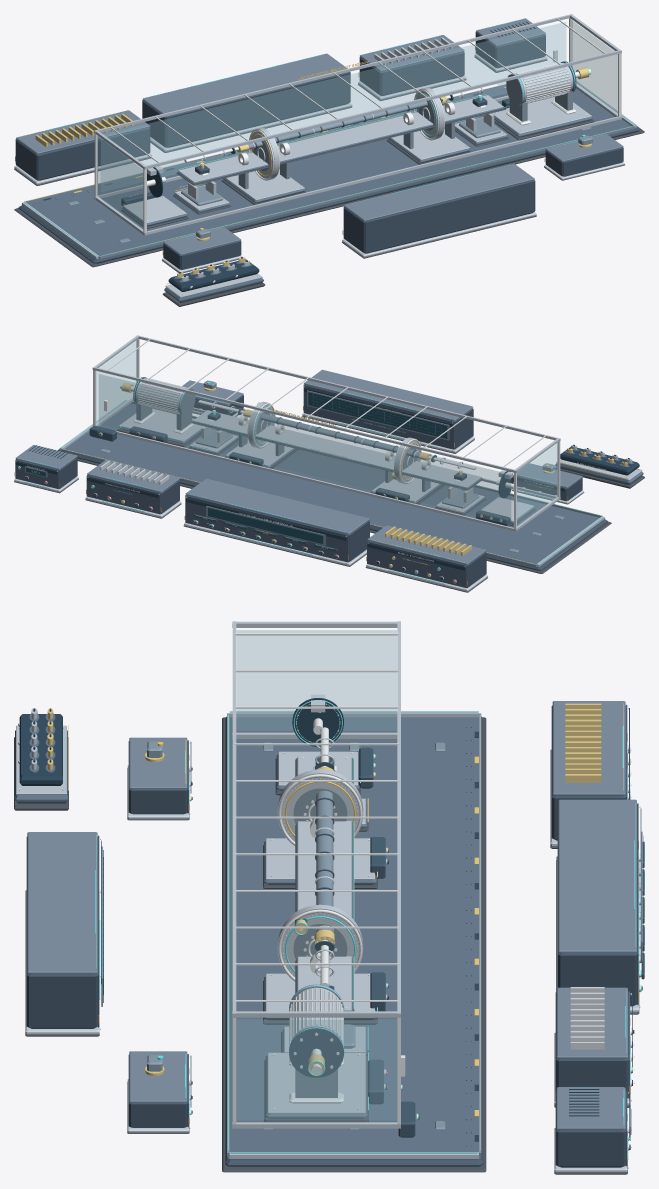
Rendered from Level53_Fitted_Assembly.fbx.
3 views of the same model, one above another, from view 1: azimuth 30°, elevation 25°; view 2: azimuth 150°, elevation 25°; view 3: azimuth 270°, elevation 25° (orthographic). The views are drawn at different scales.
Parts seen in each view (by area): view 1: L53_Guard_Door__glassblue, L53_Frame_Static__darksteel, L53_Guard_Static__nickel, L53_Monitor_Static__graphite, L53_Controller_Static__graphite, L53_Guard_Static__glassblue, L53_Shaft_Static__nickel, L53_Controller_Static__mid_steel, L53_Monitor_Static__mid_steel, L53_BalanceDriver_Static__graphite, L53_Motor_Static__nickel, L53_MotorDriver_Static__graphite (+35 smaller); view 2: L53_Guard_Door__glassblue, L53_Frame_Static__darksteel, L53_Guard_Static__nickel, L53_Guard_Static__glassblue, L53_Controller_Static__mid_steel, L53_Shaft_Static__nickel, L53_Controller_Static__deep_steel, L53_Monitor_Static__mid_steel, L53_BalanceDriver_Static__deep_steel, L53_Monitor_Static__deep_steel, L53_Monitor_Static__screenback, L53_Guard_Static__mirror (+45 smaller); view 3: L53_Frame_Static__darksteel, L53_Guard_Static__glassblue, L53_Controller_Static__mid_steel, L53_Monitor_Static__mid_steel, L53_Guard_Static__nickel, L53_Guard_Static__mirror, L53_Shaft_Static__nickel, L53_Frame_Static__rubber, L53_Motor_Static__nickel, L53_Monitor_Static__graphite, L53_Frame_Static__graphite, L53_BalanceDriver_Static__mid_steel (+32 smaller).
Part boxes in pixels (x1,y1,x2,y2): L53_Guard_Door__glassblue: (101, 22, 565, 191); L53_Frame_Static__darksteel: (21, 87, 637, 259); L53_Guard_Static__nickel: (94, 14, 621, 235); L53_Monitor_Static__graphite: (343, 180, 535, 253); L53_Controller_Static__graphite: (142, 72, 350, 147); L53_Guard_Static__glassblue: (97, 20, 617, 228); L53_Shaft_Static__nickel: (178, 95, 503, 182); L53_Controller_Static__mid_steel: (143, 53, 347, 113); L53_Monitor_Static__mid_steel: (344, 163, 534, 220); L53_BalanceDriver_Static__graphite: (16, 127, 150, 180); L53_Motor_Static__nickel: (491, 62, 591, 133); L53_MotorDriver_Static__graphite: (359, 51, 464, 95); L53_Guard_Door__glassblue: (99, 374, 510, 524); L53_Frame_Static__darksteel: (59, 403, 605, 567); L53_Guard_Static__nickel: (92, 335, 560, 531); L53_Guard_Static__glassblue: (96, 340, 558, 525); L53_Controller_Static__mid_steel: (185, 478, 369, 533); L53_Shaft_Static__nickel: (193, 410, 481, 487); L53_Controller_Static__deep_steel: (185, 495, 348, 562); L53_Monitor_Static__mid_steel: (304, 369, 473, 420); L53_BalanceDriver_Static__deep_steel: (367, 541, 466, 587); L53_Monitor_Static__deep_steel: (303, 385, 454, 449); L53_Monitor_Static__screenback: (308, 392, 447, 438); L53_Guard_Static__mirror: (93, 338, 560, 529); L53_Frame_Static__darksteel: (227, 717, 480, 1159); L53_Guard_Static__glassblue: (237, 630, 396, 1119); L53_Controller_Static__mid_steel: (558, 799, 636, 952); L53_Monitor_Static__mid_steel: (27, 832, 97, 973); L53_Guard_Static__nickel: (232, 621, 400, 1128); L53_Guard_Static__mirror: (232, 633, 417, 1124); L53_Shaft_Static__nickel: (297, 756, 351, 1010); L53_Frame_Static__rubber: (222, 717, 486, 1172); L53_Motor_Static__nickel: (267, 987, 365, 1113); L53_Monitor_Static__graphite: (26, 837, 97, 1028); L53_Frame_Static__graphite: (225, 716, 483, 1166); L53_BalanceDriver_Static__mid_steel: (552, 701, 625, 795).
Size of the model in its own units: 191 by 29.1 by 112.
